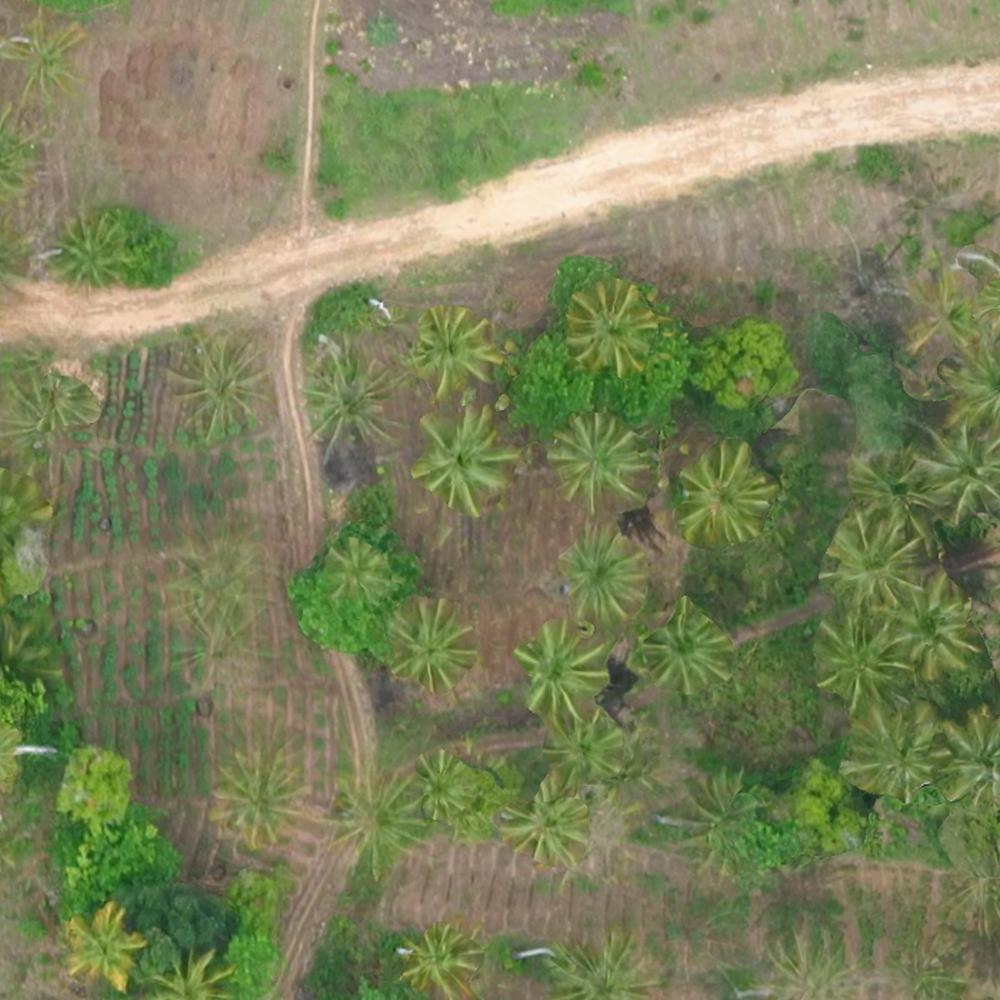Palm: (883, 580, 980, 679), (414, 409, 513, 505), (548, 414, 650, 505), (827, 512, 919, 605), (557, 530, 649, 622), (569, 283, 658, 377), (304, 352, 393, 446), (515, 624, 604, 717), (847, 709, 941, 794), (812, 618, 907, 702), (685, 443, 768, 536), (503, 781, 588, 868), (213, 760, 300, 844), (644, 604, 728, 690), (180, 338, 264, 422), (385, 601, 470, 683), (338, 778, 420, 861), (412, 306, 495, 384), (916, 429, 995, 508), (66, 907, 144, 983), (399, 926, 478, 997), (545, 711, 619, 777), (416, 751, 477, 813), (324, 543, 383, 598)
